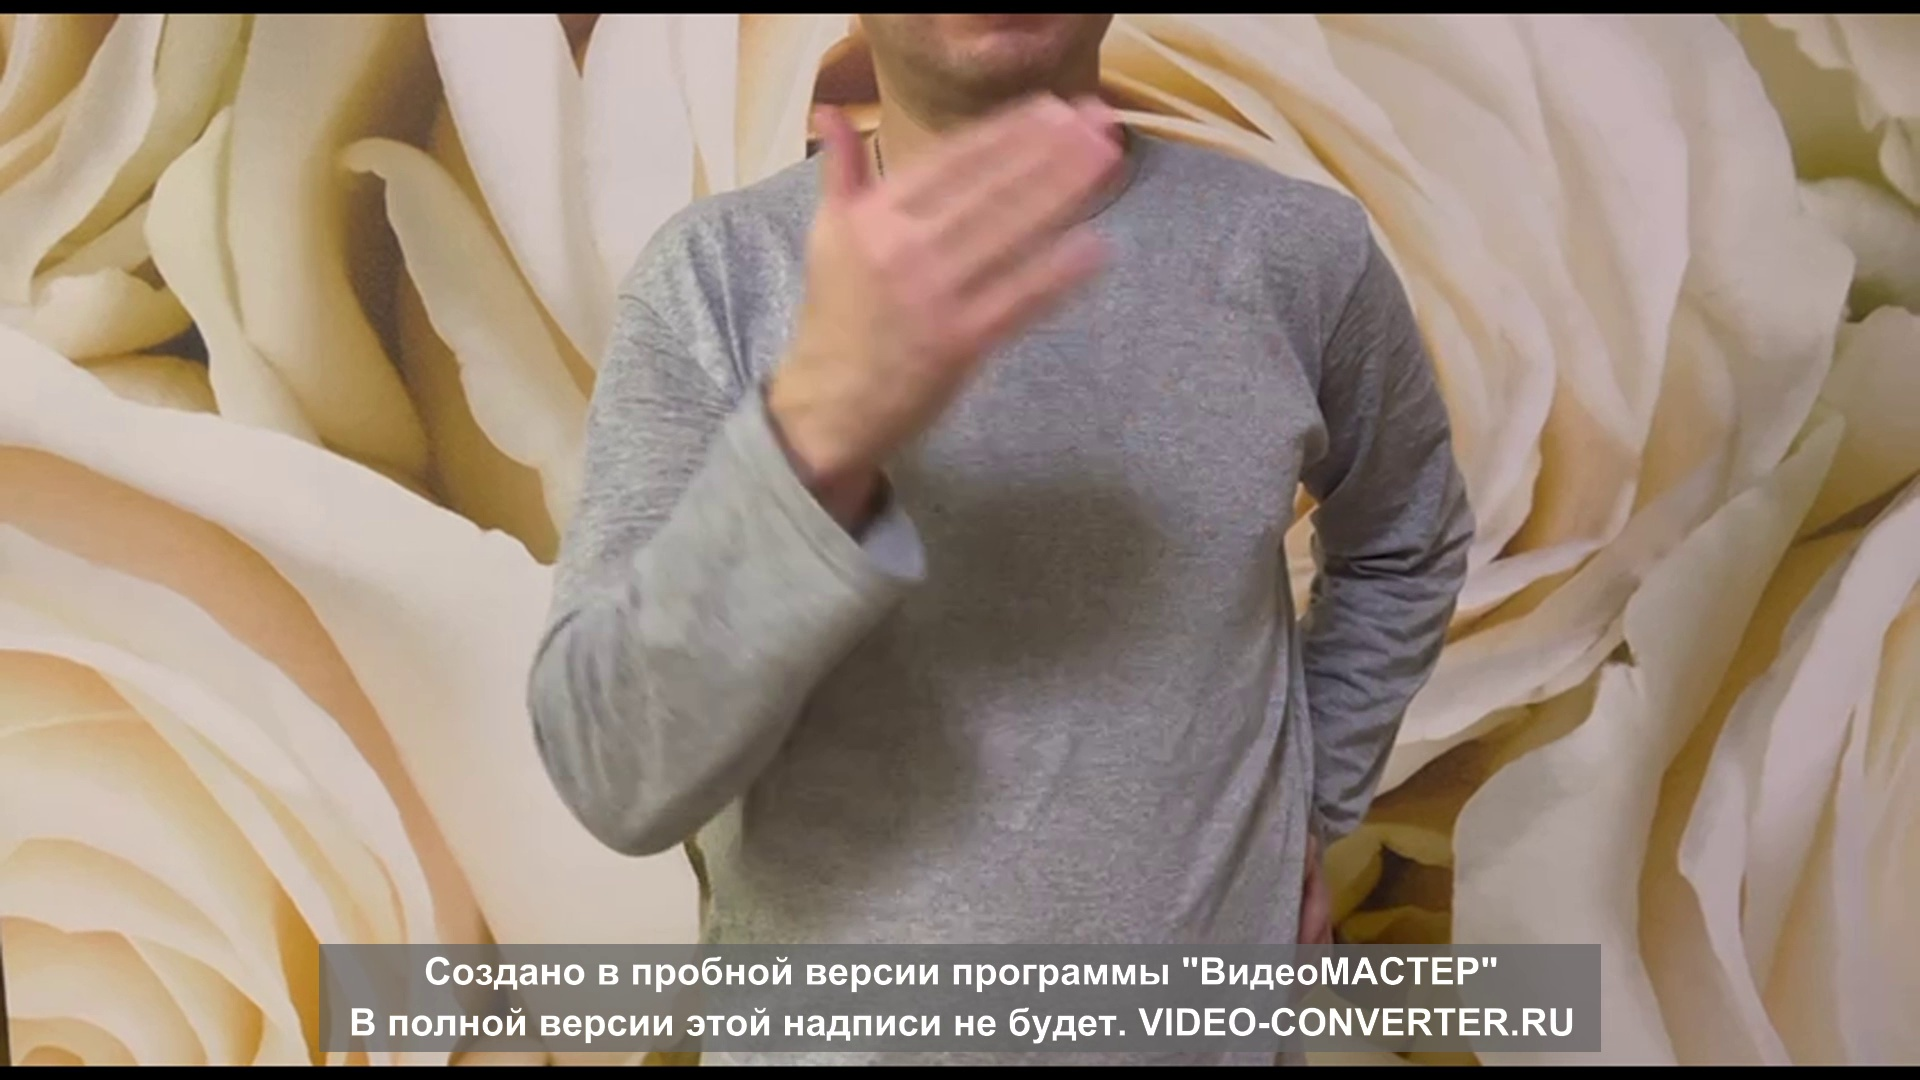Кисть: (791, 95, 1116, 456)
